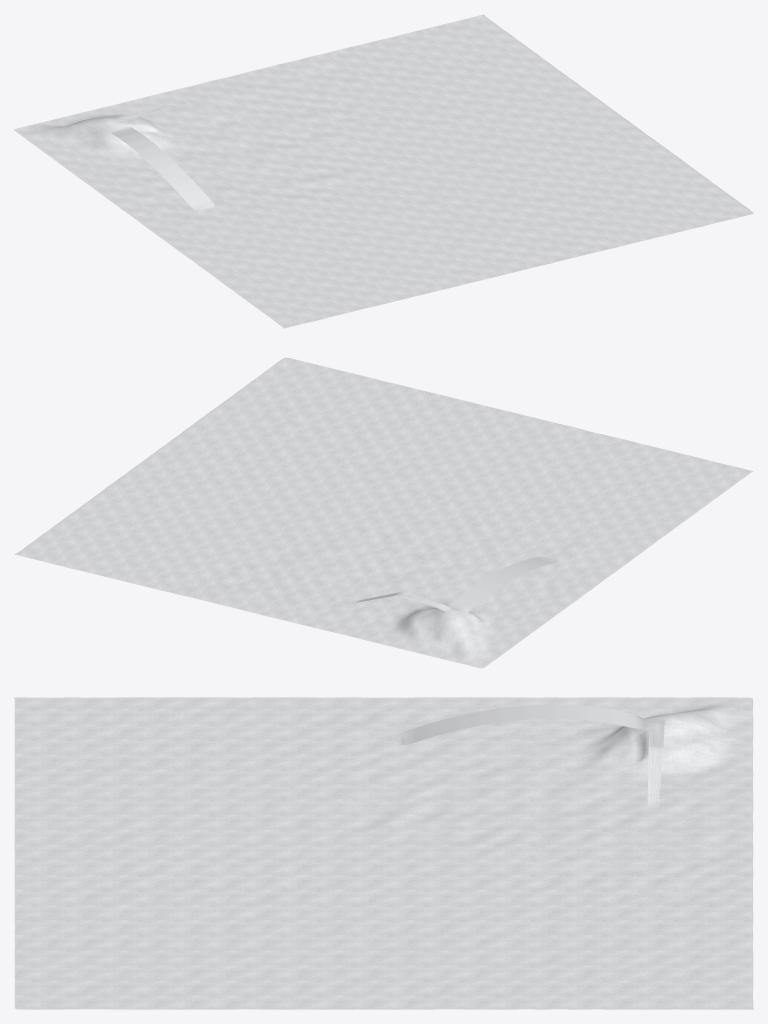
The model's file is terrain-test.glb.
The picture shows the model from 3 angles, top to bottom: view 1: azimuth 30°, elevation 25°; view 2: azimuth 150°, elevation 25°; view 3: azimuth 270°, elevation 25°; orthographic projection. The views are drawn at different scales.
Visible parts, largest first — view 1: BezierCurve; view 2: BezierCurve; view 3: BezierCurve.
Part boxes in pixels (left/top/right/bottom): BezierCurve: left=14, top=14, right=753, bottom=328; BezierCurve: left=14, top=357, right=753, bottom=668; BezierCurve: left=14, top=697, right=753, bottom=1009.
Size of the model in its own units: 98.75 by 4.21 by 98.72.
Materials: 1 (1 with a texture image).
